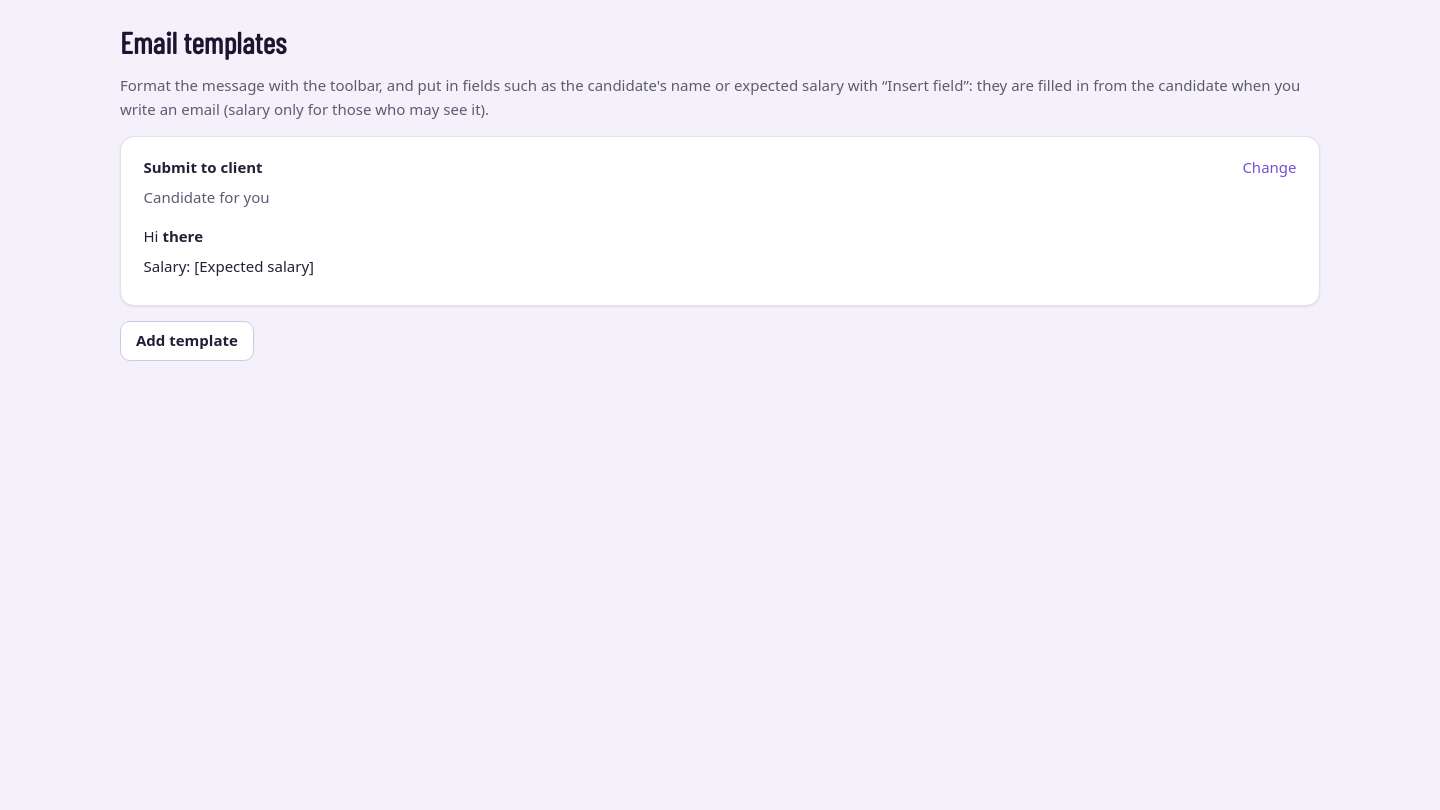
Scenario: email templates › show their formatting, and are edited with CV Studio's toolbar and a field picker
This screenshot has width=1440, height=810.
Later steps or results of the test are not shown.
Click the button "Change": [1269, 167] box x1=1242 y1=156 x2=1296 y2=179
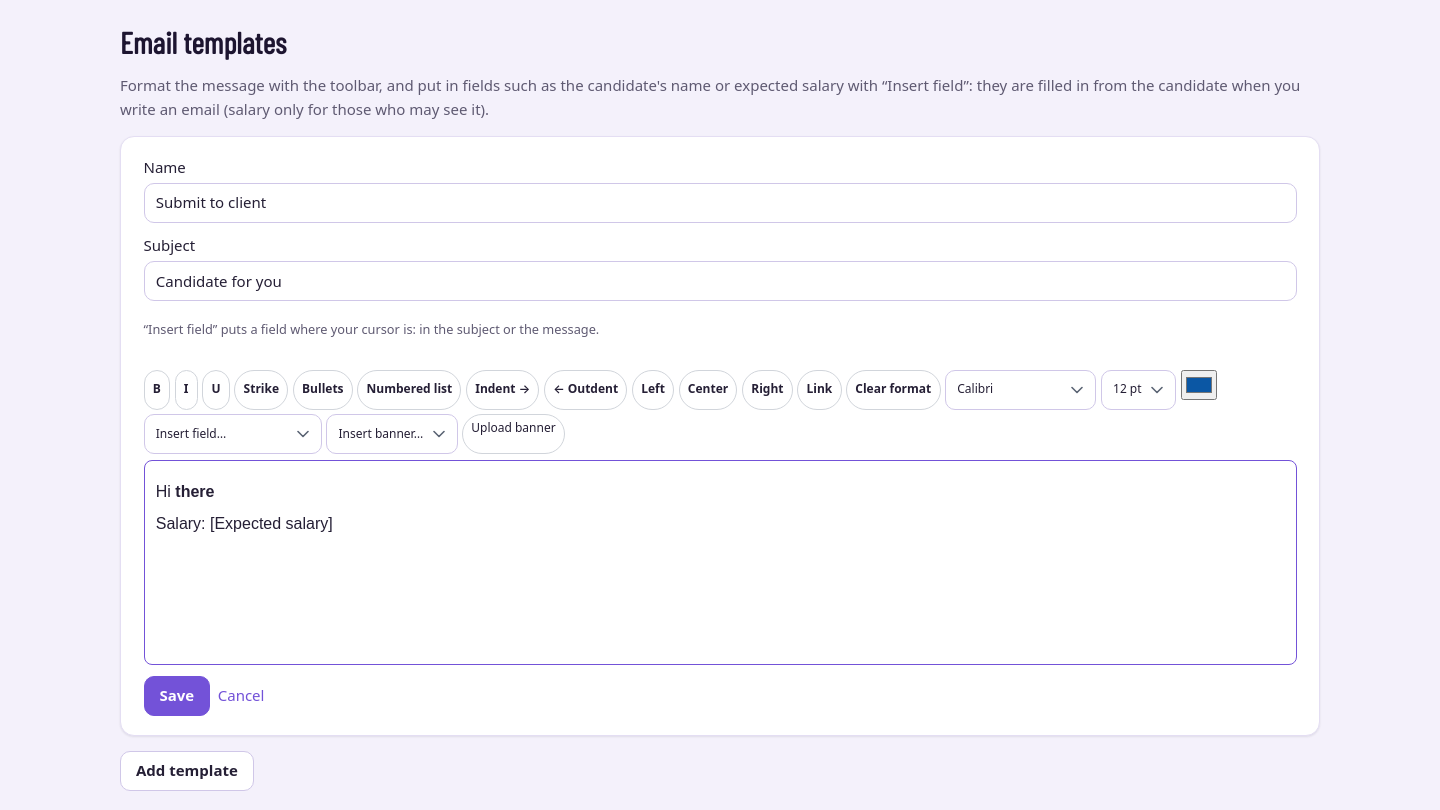
Check: the button named "Bold" is shown, box x1=144 y1=370 x2=170 y2=410
Check: the button named "Italic" is shown, box x1=175 y1=370 x2=198 y2=410
Check: the button named "Underline" is shown, box x1=202 y1=370 x2=230 y2=410
Select "Candidate name" in the dropdown named "Insert field": [233, 434] box x1=144 y1=414 x2=322 y2=454
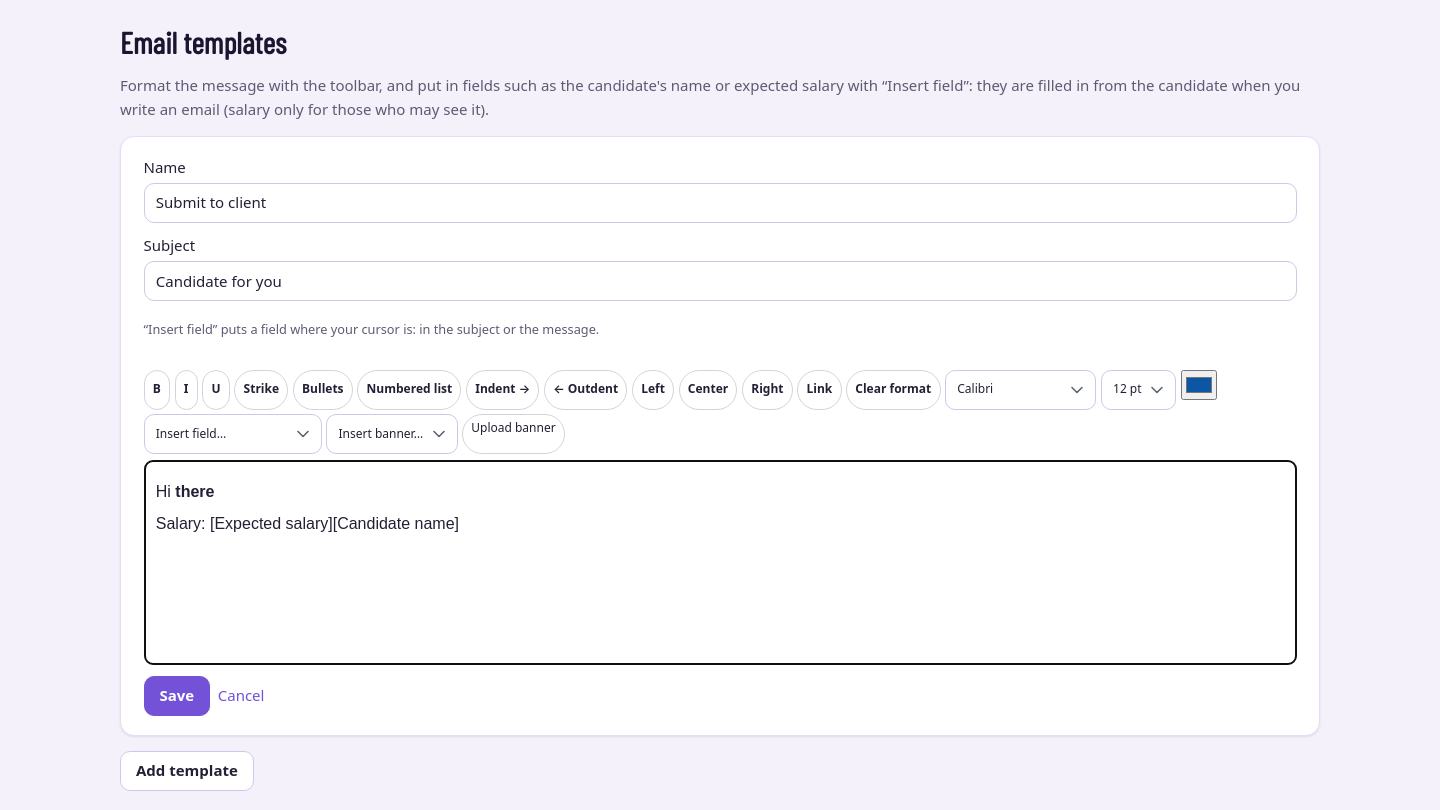
Check: the field named "Message" shows "[Candidate name]", box x1=144 y1=460 x2=1296 y2=665
